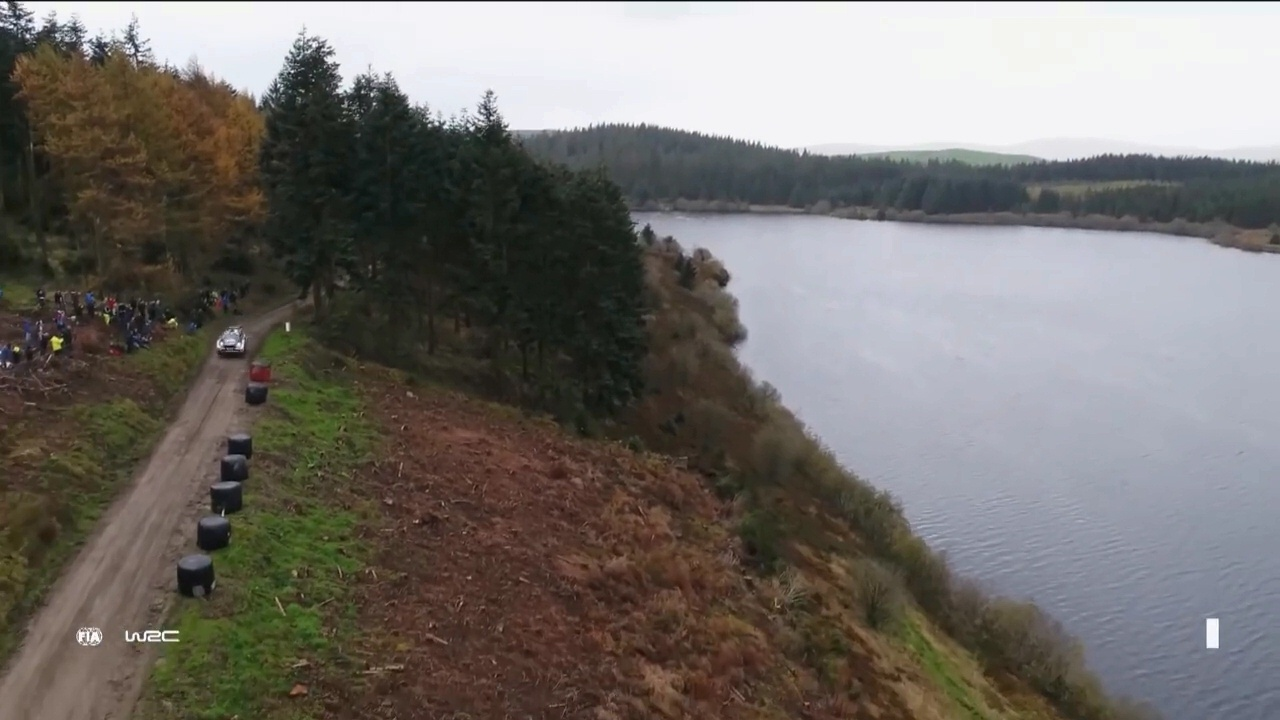araba: (215, 322, 249, 358)
